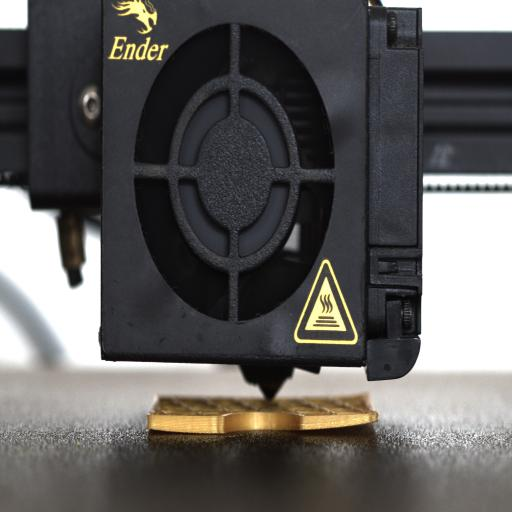warp: (297, 409, 385, 437), (140, 411, 180, 439)
